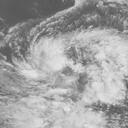cyclone: (11, 30, 108, 120)
